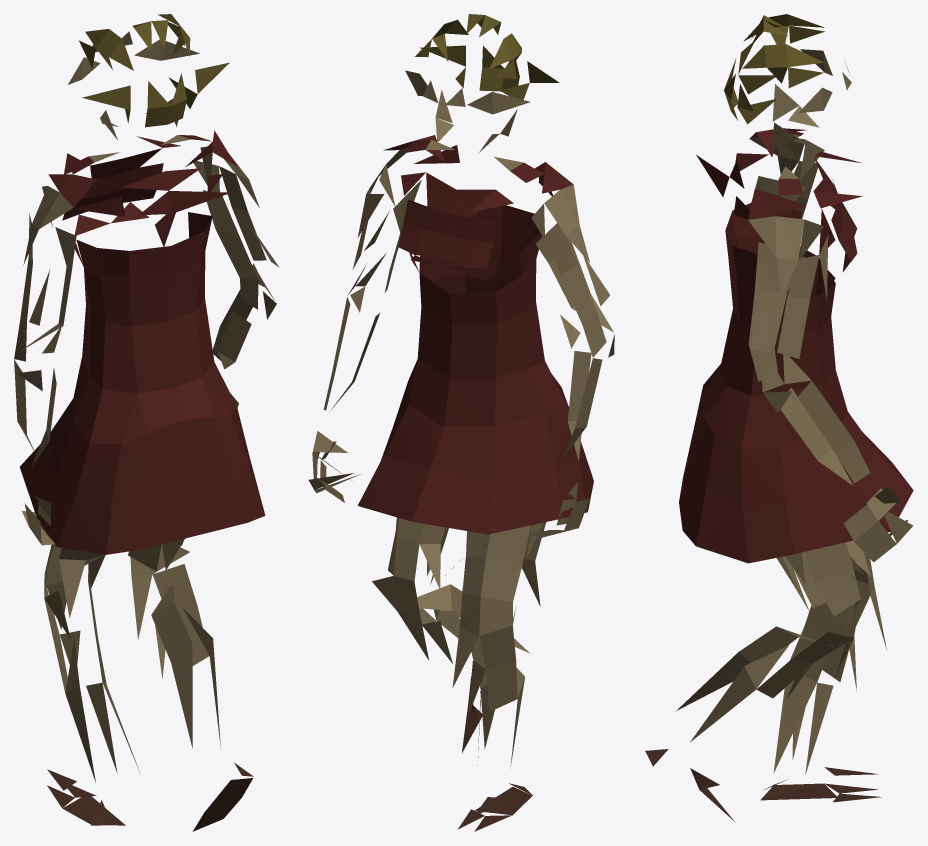
File: personfar_0_w2.fbx
The picture shows the model from 3 angles, left to right: view 1: azimuth 30°, elevation 25°; view 2: azimuth 150°, elevation 25°; view 3: azimuth 270°, elevation 25°; orthographic projection. The views are drawn at different scales.
Visible parts, largest first — view 1: Female; view 2: Female; view 3: Female.
Part boxes in pixels (x1,y1,x2,y2): Female: (14, 14, 279, 831); Female: (308, 14, 614, 831); Female: (645, 14, 913, 822).
Bounding box in the file's own units: 0.3345 × 0.9735 × 0.2986.
